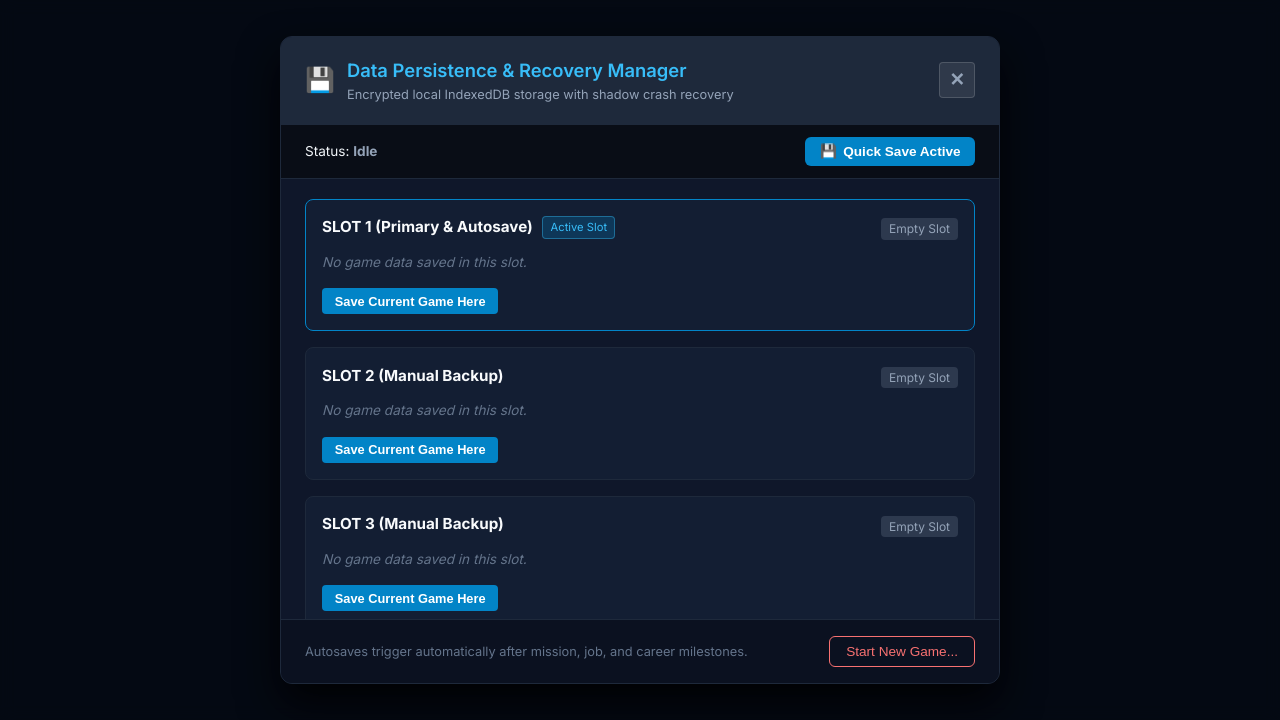
Scenario: HUD SaveStatusIndicator & SaveManagerModal Components › renders SaveManagerModal with slots and allows quick saving
The width and height of the screenshot is (1280, 720).
Expected: the heading "Data Persistence & Recovery Manager" is shown, left=347, top=57, right=734, bottom=85
Expected: the element with test id "save-slot-card-slot_1" is shown, left=305, top=199, right=975, bottom=331
Quick save active slot
Click the button with test id "btn-save-modal-quicksave".
click(890, 151)  # box left=806, top=137, right=975, bottom=166
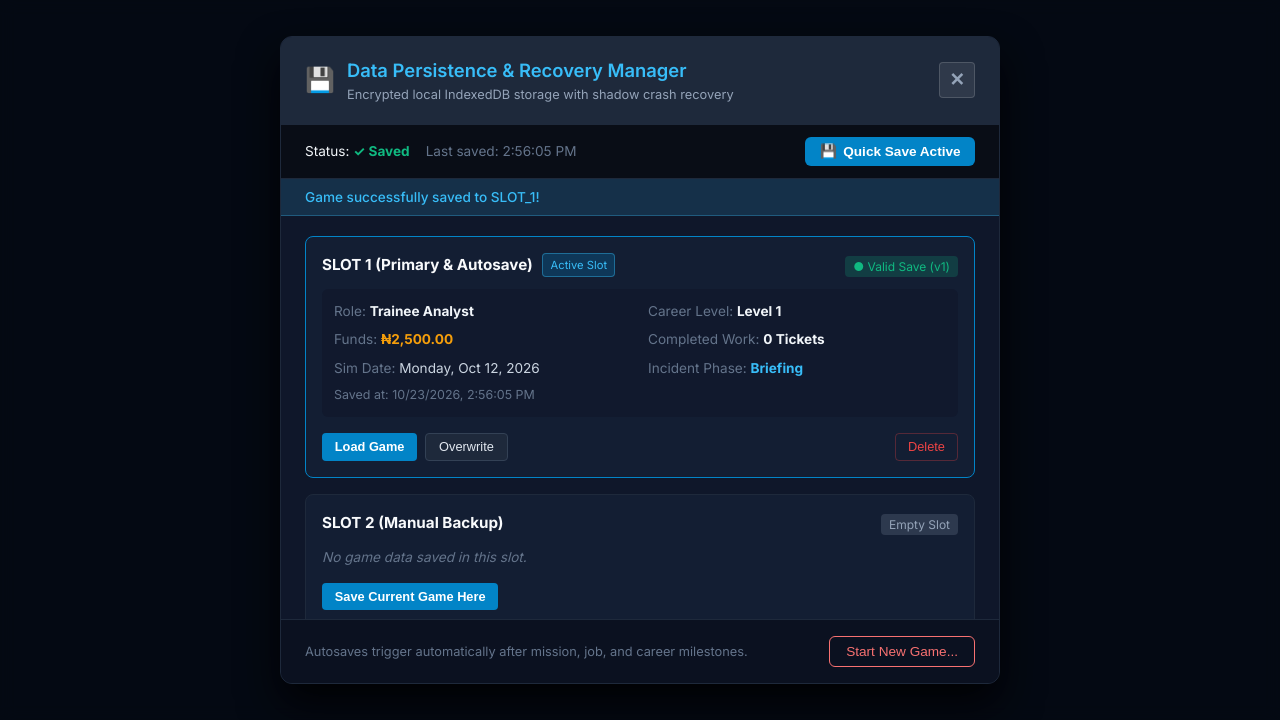
Result: the text with test id "slot-status-badge-slot_1" shows "● Valid Save" at left=853, top=259, right=941, bottom=274
Result: the text with test id "save-modal-global-status" reads "✓ Saved" at left=353, top=143, right=410, bottom=159
